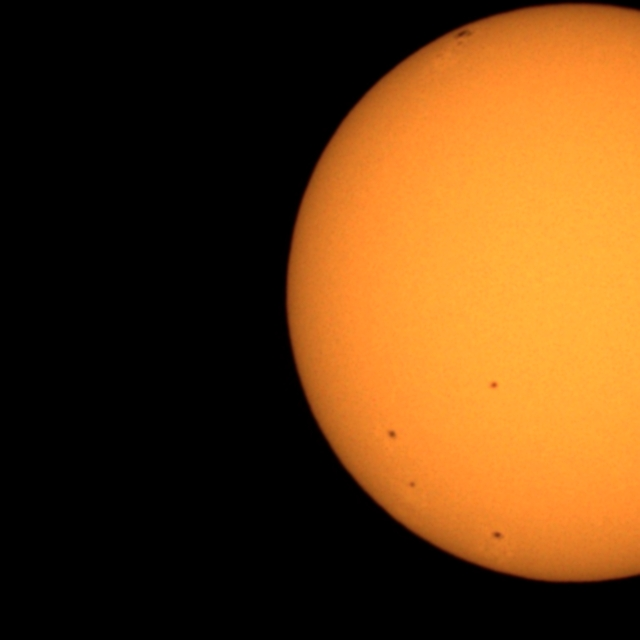sunspot: (490, 530, 505, 542), (386, 428, 398, 441), (488, 380, 500, 391), (408, 480, 417, 490)
